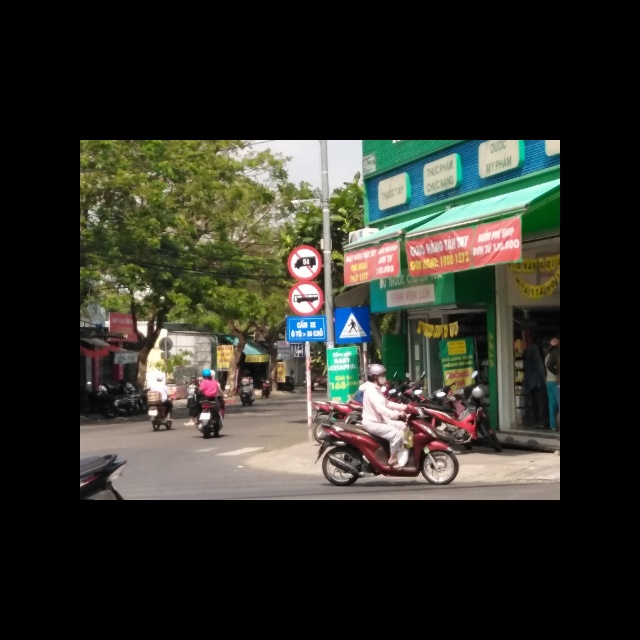Cấm xe tải: (287, 245, 323, 281)
Cấm xe xe khách: (288, 281, 325, 317)
Đường dành cho người đi bộ: (335, 308, 371, 345)
